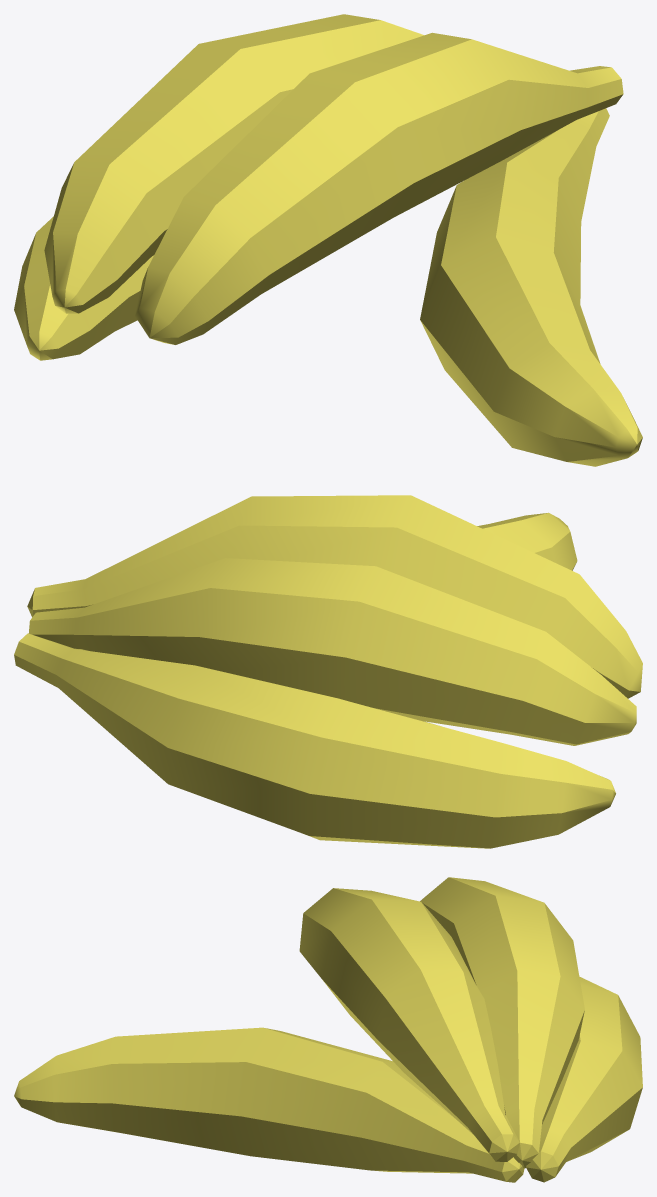
File: Banana.fbx
3 renders of one model, top to bottom at view 1: azimuth 30°, elevation 25°; view 2: azimuth 150°, elevation 25°; view 3: azimuth 270°, elevation 25°, orthographic. The views are drawn at different scales.
Visible parts, largest first — view 1: Banana; view 2: Banana; view 3: Banana.
Boxes of the visible parts, bbox=[...] form: Banana: bbox=[14, 14, 642, 466]; Banana: bbox=[14, 495, 642, 848]; Banana: bbox=[14, 877, 642, 1182].
Size of the model in its own units: 5.87 by 2.54 by 6.41.
